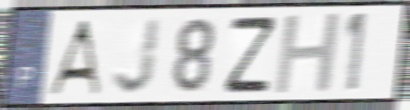1: (343, 10, 370, 96)
8: (170, 16, 217, 95)
A: (44, 17, 103, 97)
H: (272, 10, 344, 97)
J: (110, 16, 163, 96)
Z: (223, 13, 279, 95)
